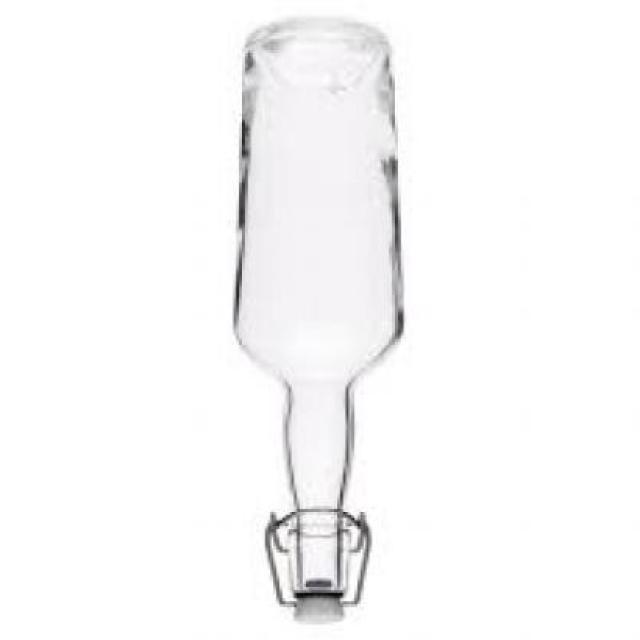kaca: (242, 22, 404, 601)
